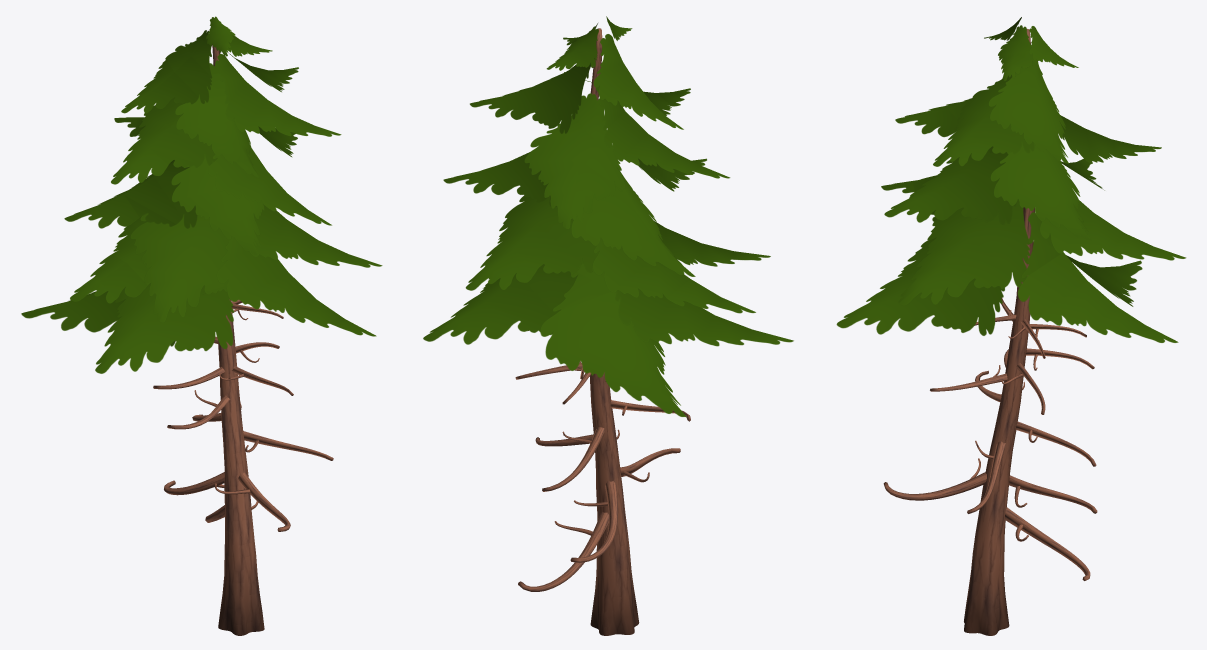
The model's file is trees_pine_c.5e5fa2a6.glb.
The picture shows the model from 3 angles, left to right: view 1: azimuth 30°, elevation 25°; view 2: azimuth 150°, elevation 25°; view 3: azimuth 270°, elevation 25°; orthographic projection. The views are drawn at different scales.
Parts seen in each view (by area): view 1: Pine_3; view 2: Pine_3; view 3: Pine_3.
Boxes of the visible parts, box(x1,y1,x2,y2) form: Pine_3: box(21, 16, 382, 635); Pine_3: box(423, 16, 793, 635); Pine_3: box(836, 17, 1186, 635).
Bounding box in the file's own units: 3.61 × 7.39 × 4.
Materials: 2 (2 with a texture image).
